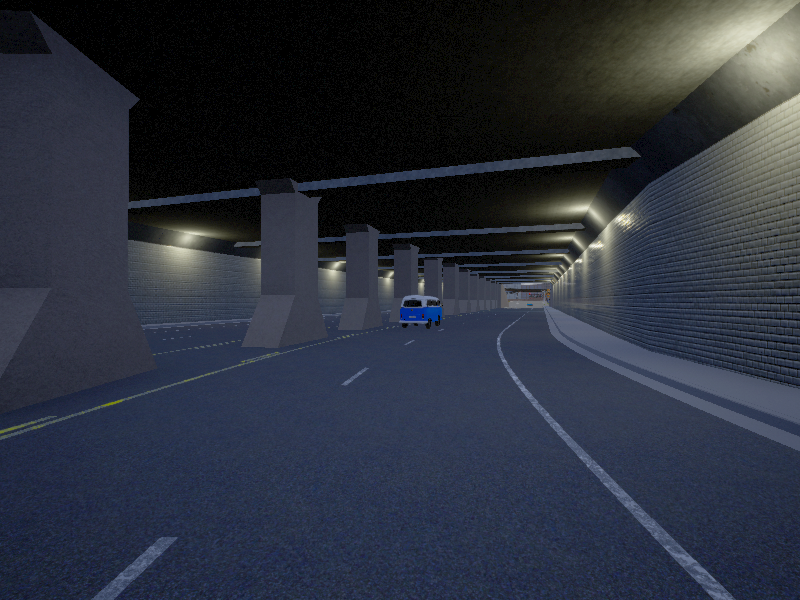Benign: (400, 294, 439, 329)
